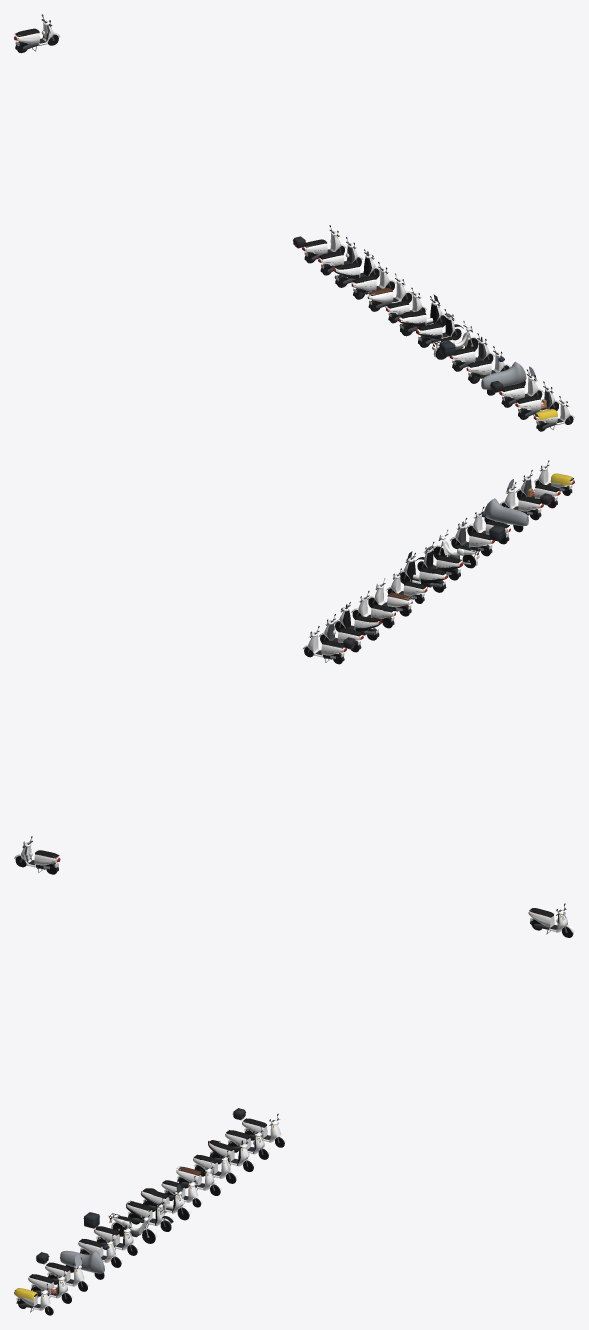
The model's file is scooter.glb.
The picture shows the model from 3 angles, top to bottom: view 1: azimuth 30°, elevation 25°; view 2: azimuth 150°, elevation 25°; view 3: azimuth 330°, elevation 25°; orthographic projection.
Visible parts, largest first — view 1: scooter_S1B_D, scooter_S3, scooter_S1A_W, scooter_S1A, scooter_S6, scooter_S2, scooter_S1B_G, scooter_S4, scooter_S1A_C, scooter_S5, scooter_S1B, scooter_S7_R (+4 smaller); view 2: scooter_S1B_D, scooter_S3, scooter_S1A, scooter_S1A_W, scooter_S1A_C, scooter_S2, scooter_S6, scooter_S4, scooter_S9, scooter_S5, scooter_S1B_G, scooter_S1B (+4 smaller); view 3: scooter_S1B_D, scooter_S1A_W, scooter_S3, scooter_S1A, scooter_S6, scooter_S2, scooter_S1B_G, scooter_S4, scooter_S1A_C, scooter_S1B, scooter_S5, scooter_S9 (+4 smaller).
Boxes of the visible parts, x1,y1,x2,y2 form: scooter_S1B_D: (439, 333, 494, 371); scooter_S3: (398, 294, 446, 336); scooter_S1A_W: (490, 366, 543, 407); scooter_S1A: (293, 225, 346, 263); scooter_S6: (416, 309, 463, 347); scooter_S2: (333, 249, 380, 287); scooter_S1B_G: (515, 381, 560, 419); scooter_S4: (367, 273, 412, 311); scooter_S1A_C: (481, 361, 526, 395); scooter_S5: (351, 262, 396, 299); scooter_S1B: (318, 237, 363, 275); scooter_S7_R: (533, 396, 574, 431); scooter_S1B_D: (450, 518, 505, 556); scooter_S3: (398, 551, 447, 592); scooter_S1A: (302, 626, 356, 664); scooter_S1A_W: (500, 479, 553, 520); scooter_S1A_C: (484, 498, 528, 532); scooter_S2: (334, 602, 380, 640); scooter_S6: (415, 542, 462, 580); scooter_S4: (367, 578, 412, 616); scooter_S9: (432, 529, 480, 568); scooter_S5: (351, 591, 395, 628); scooter_S1B_G: (515, 470, 560, 508); scooter_S1B: (318, 614, 363, 652); scooter_S1B_D: (83, 1212, 139, 1255); scooter_S1A_W: (36, 1252, 89, 1291); scooter_S3: (141, 1184, 191, 1220); scooter_S1A: (232, 1108, 286, 1147); scooter_S6: (126, 1197, 173, 1231); scooter_S2: (208, 1138, 255, 1171); scooter_S1B_G: (28, 1269, 73, 1303); scooter_S4: (176, 1162, 222, 1195); scooter_S1A_C: (60, 1250, 104, 1279); scooter_S1B: (225, 1125, 270, 1159); scooter_S5: (193, 1150, 237, 1183); scooter_S9: (108, 1210, 156, 1243).
Size of what is drawn, in the model's own units: 2.31 by 1.42 by 38.45.
